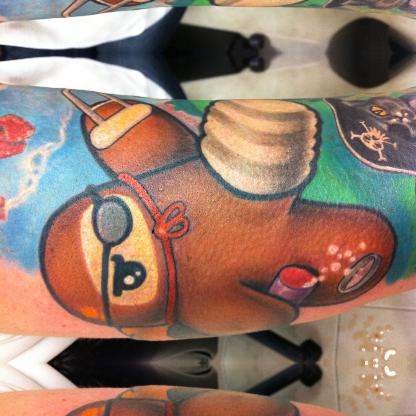Cat: (323, 90, 415, 174)
